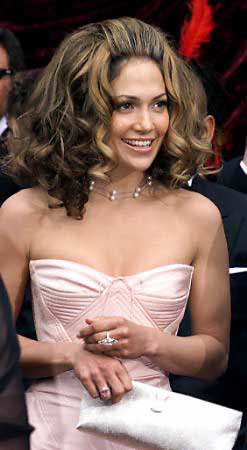Face: (106, 63, 171, 170)
